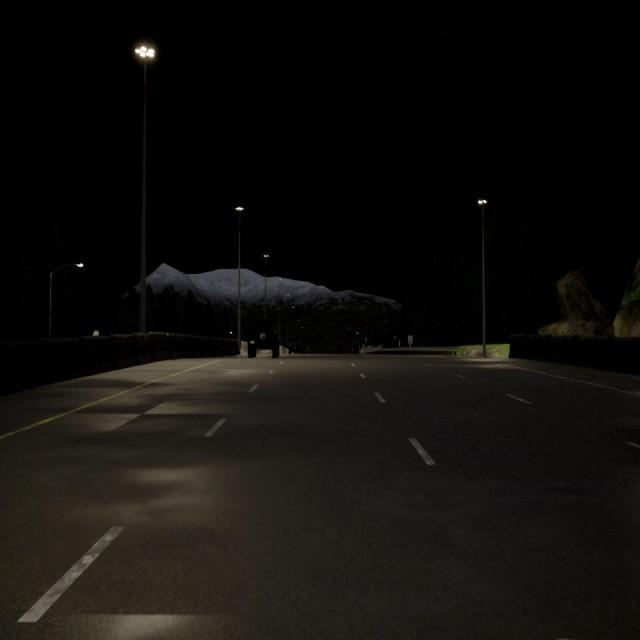Traffic_Signs: (408, 336, 413, 344)
Vehicle: (247, 323, 280, 358), (288, 341, 303, 354)
